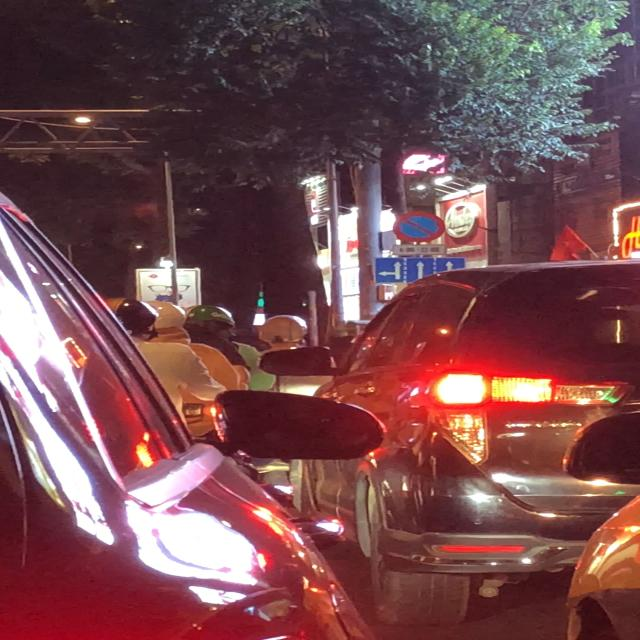Bien bao cam do xe: (388, 210, 450, 243)
